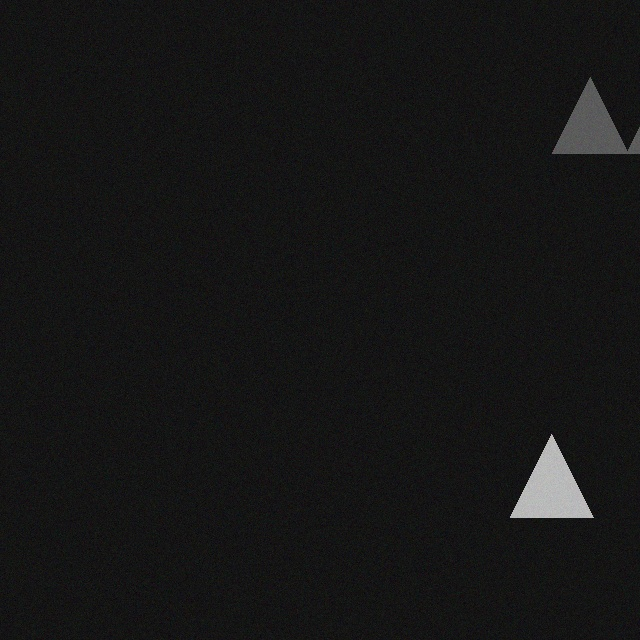triangle: (522, 435, 605, 518), (564, 78, 640, 154)
